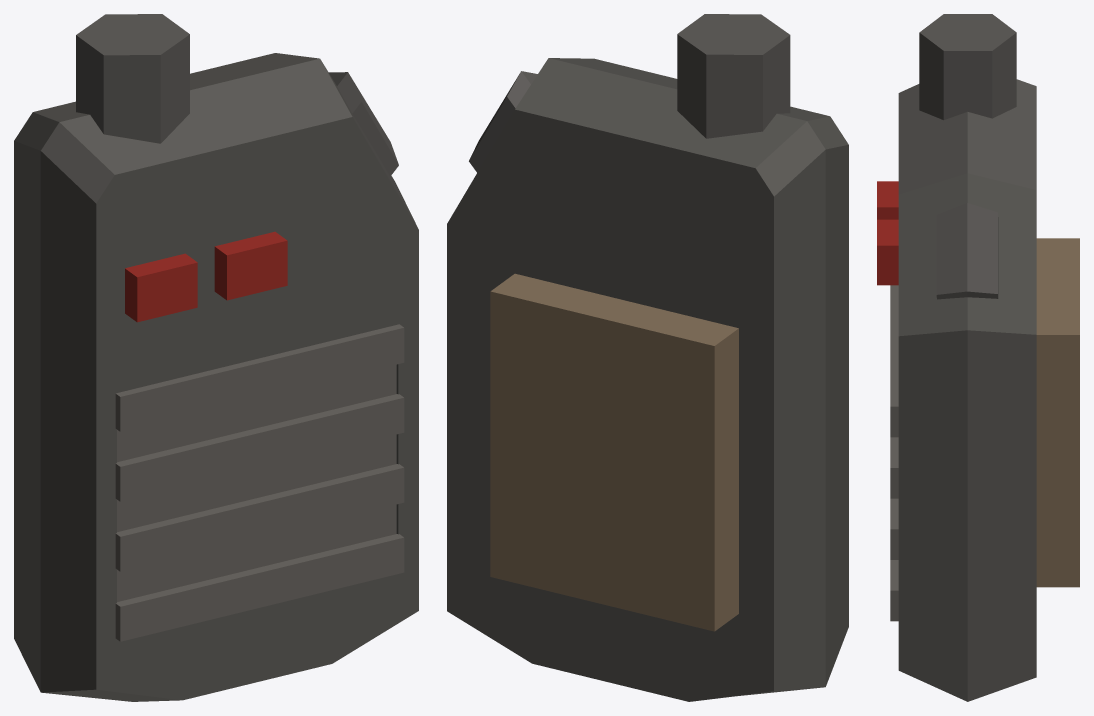
File: Radio_01_SM.FBX
The picture shows the model from 3 angles, left to right: view 1: azimuth 30°, elevation 25°; view 2: azimuth 150°, elevation 25°; view 3: azimuth 270°, elevation 25°; orthographic projection. The views are drawn at different scales.
Visible parts, largest first — view 1: Radio_01_SM; view 2: Radio_01_SM; view 3: Radio_01_SM.
Part boxes in pixels (left/top/right/bottom): Radio_01_SM: left=14, top=14, right=418, bottom=701; Radio_01_SM: left=447, top=14, right=848, bottom=701; Radio_01_SM: left=877, top=14, right=1079, bottom=701.
Size of what is drawn, in the model's own units: 5.3 by 2.99 by 9.53.
